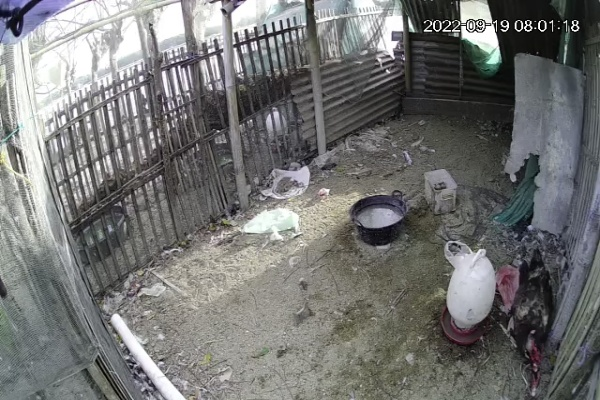Kawin: (506, 241, 557, 400)
